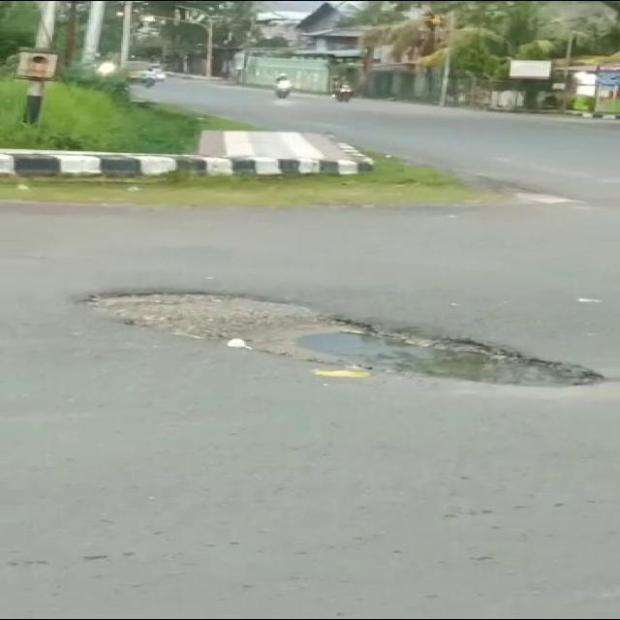lubang: (86, 293, 619, 389)
